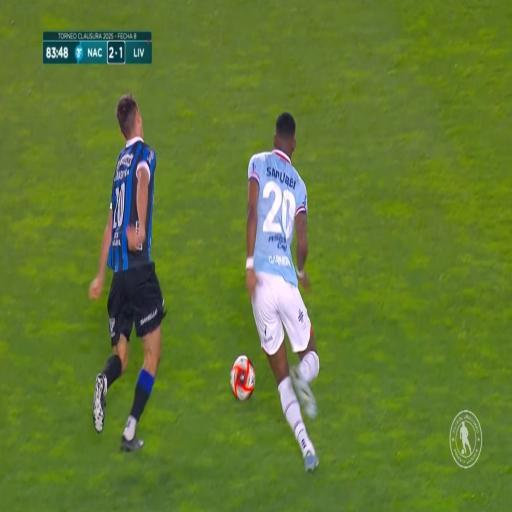Ball: (230, 354, 254, 400)
Player: (90, 98, 161, 446), (258, 120, 316, 466)
